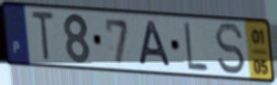7: (102, 18, 131, 66)
8: (62, 12, 92, 66)
A: (138, 19, 174, 69)
L: (183, 20, 211, 74)
S: (212, 21, 247, 76)
T: (30, 9, 57, 63)
